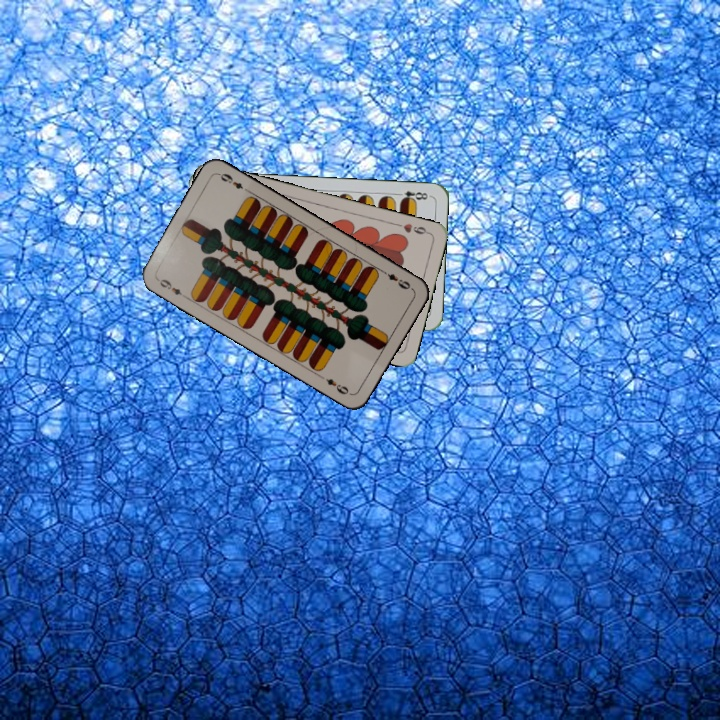E8: (392, 187, 432, 204)
E9: (378, 266, 415, 292), (153, 274, 190, 300)
H9: (392, 219, 432, 237)
